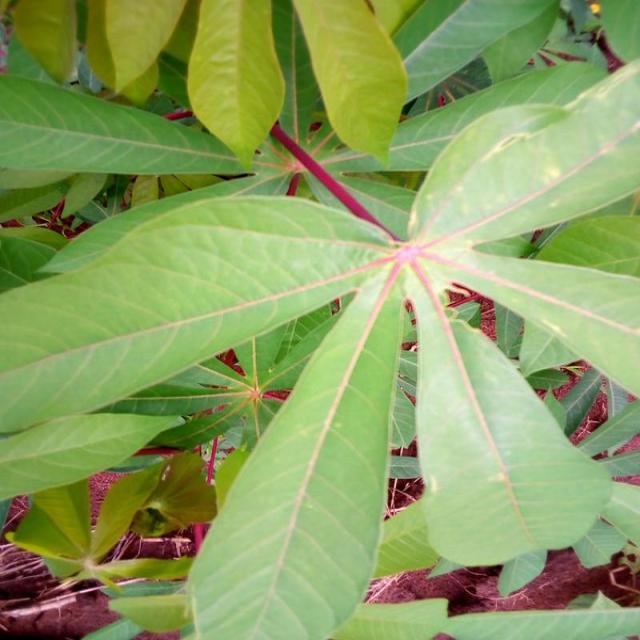cassava leaf: (0, 4, 638, 637), (183, 262, 405, 638)
